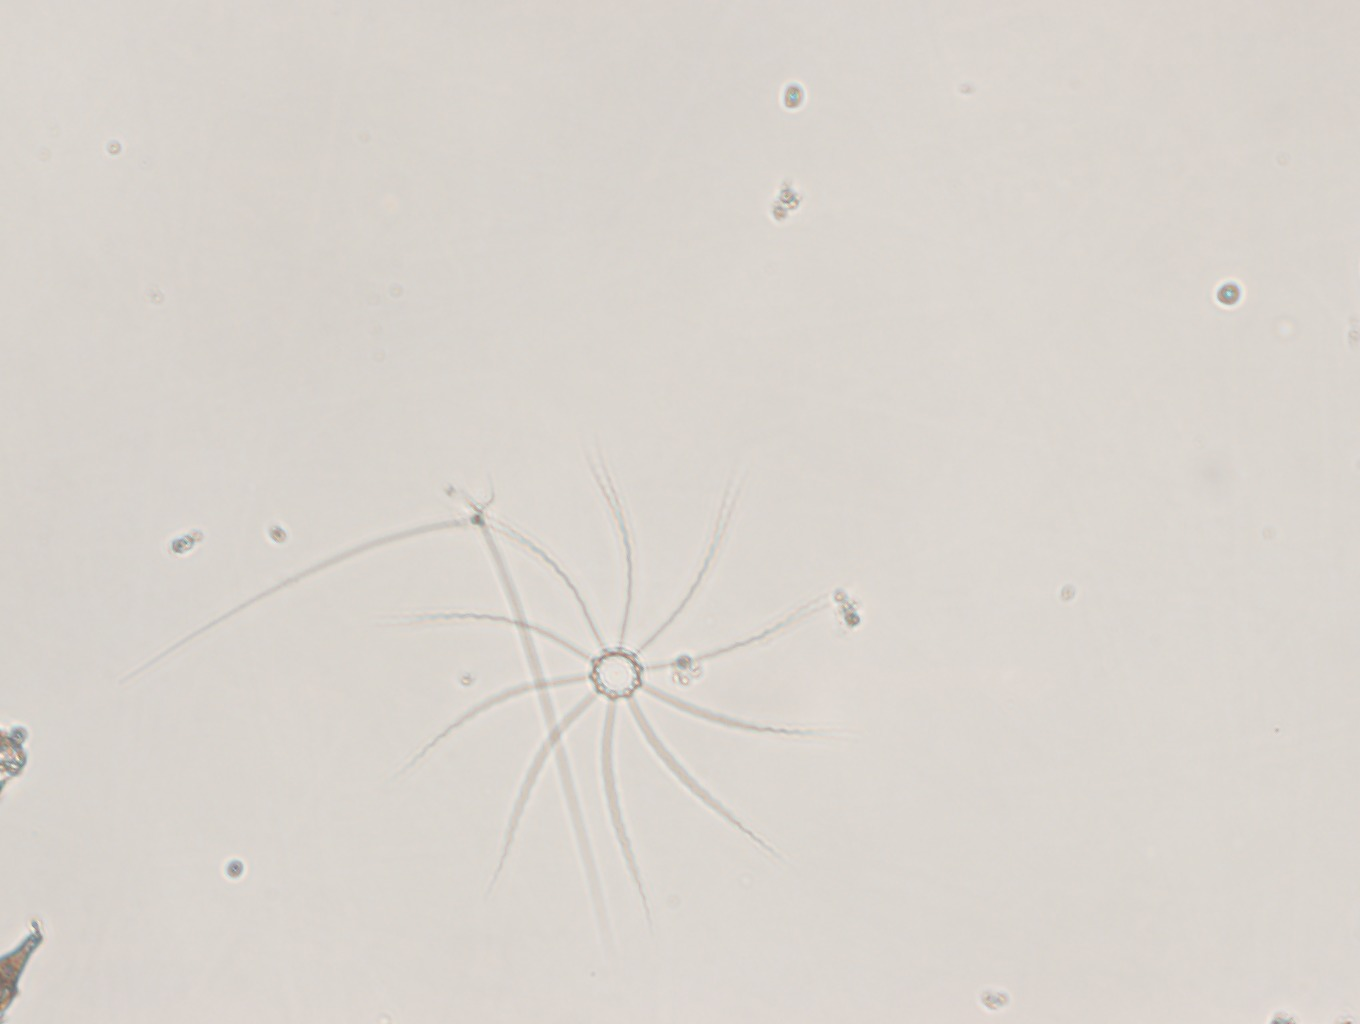bacteriastrum: (425, 463, 841, 926)
